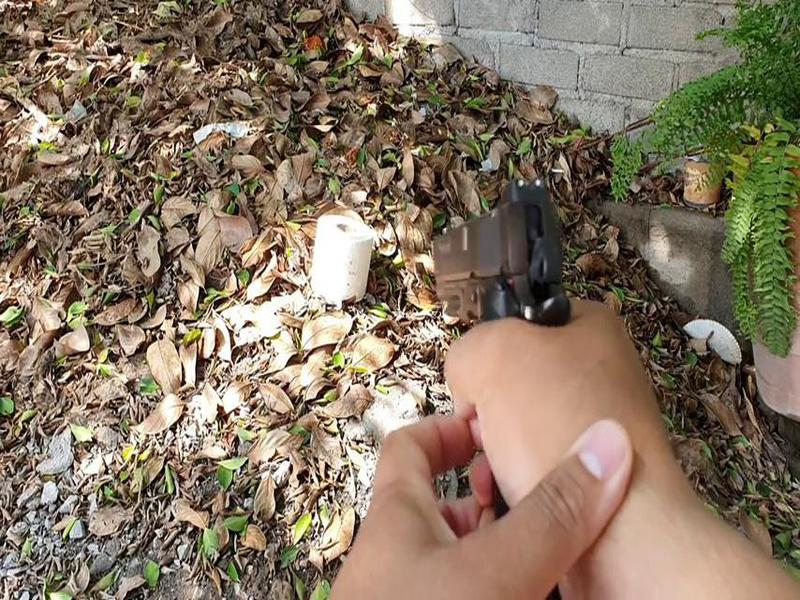Pistola: (416, 180, 607, 361)
